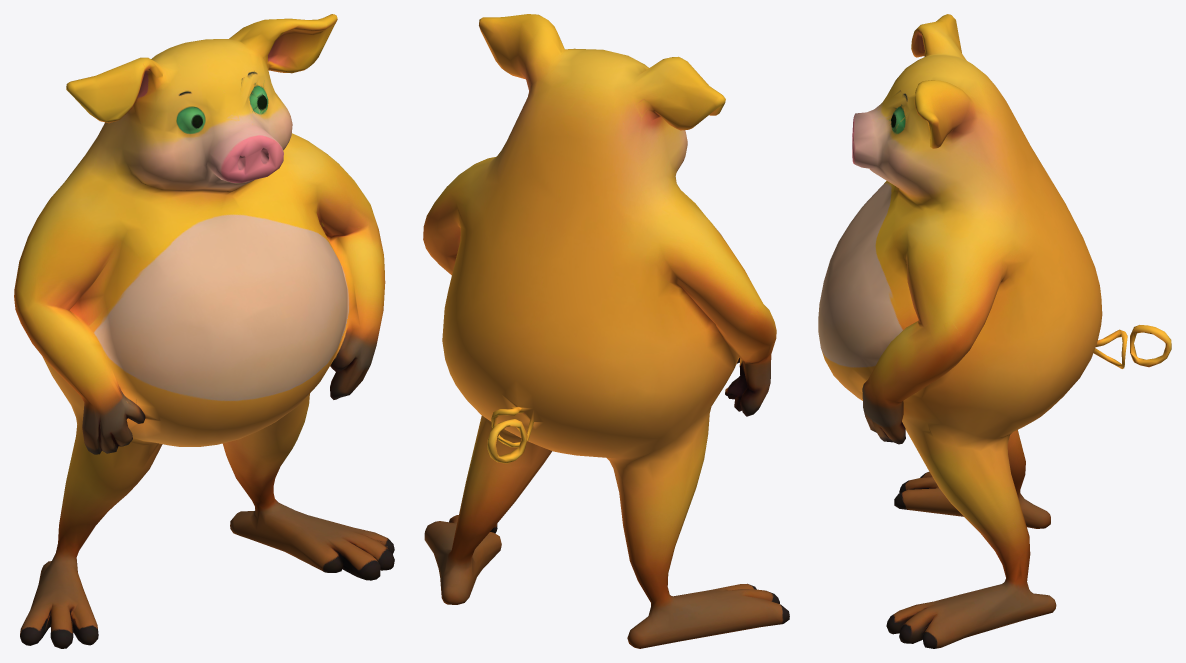
3 views of the same model, side by side, from view 1: azimuth 30°, elevation 25°; view 2: azimuth 150°, elevation 25°; view 3: azimuth 270°, elevation 25° (orthographic). The views are drawn at different scales.
Parts seen in each view (by area): view 1: tripo_node_af650695; view 2: tripo_node_af650695; view 3: tripo_node_af650695.
Part boxes in pixels (x1,y1,x2,y2): tripo_node_af650695: (14, 14, 394, 648); tripo_node_af650695: (423, 14, 789, 648); tripo_node_af650695: (818, 14, 1171, 648).
Size of the model in its own units: 0.6922 by 1 by 0.6188.
1 material, 1 textured.
